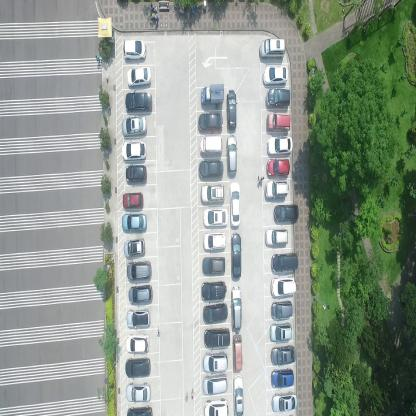car: (271, 390, 298, 414), (202, 206, 229, 230), (126, 260, 153, 284), (125, 91, 153, 114), (258, 38, 286, 60), (203, 327, 231, 349), (270, 253, 299, 274), (201, 82, 224, 108), (202, 351, 228, 374), (266, 135, 294, 156), (270, 367, 295, 390), (265, 88, 291, 110), (201, 254, 227, 276), (202, 302, 228, 324), (121, 116, 147, 138), (125, 357, 151, 379), (124, 382, 152, 402), (122, 38, 146, 61), (198, 134, 223, 156), (199, 183, 224, 205), (128, 284, 153, 306), (198, 159, 224, 180), (201, 280, 227, 301), (122, 212, 148, 233), (121, 140, 148, 160), (230, 180, 241, 228), (231, 231, 242, 279), (124, 237, 146, 261), (263, 64, 289, 84), (197, 113, 223, 133), (126, 67, 152, 87), (126, 308, 152, 328), (231, 284, 242, 331), (270, 277, 297, 296), (270, 344, 297, 363), (203, 376, 230, 395), (226, 134, 238, 176), (126, 332, 150, 353), (273, 203, 298, 223), (202, 232, 227, 252), (203, 398, 230, 416), (227, 86, 238, 130), (267, 112, 291, 132), (233, 375, 245, 415), (270, 322, 293, 342), (265, 158, 290, 176), (125, 164, 146, 185), (270, 301, 293, 320), (122, 191, 144, 210), (265, 180, 288, 198), (265, 229, 288, 247), (232, 335, 243, 372), (126, 403, 154, 415)
